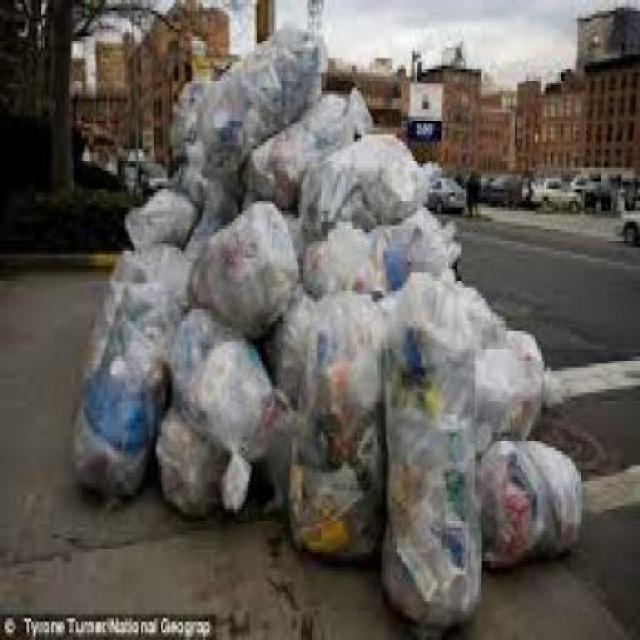garbage: (77, 51, 490, 590), (406, 277, 598, 576)
